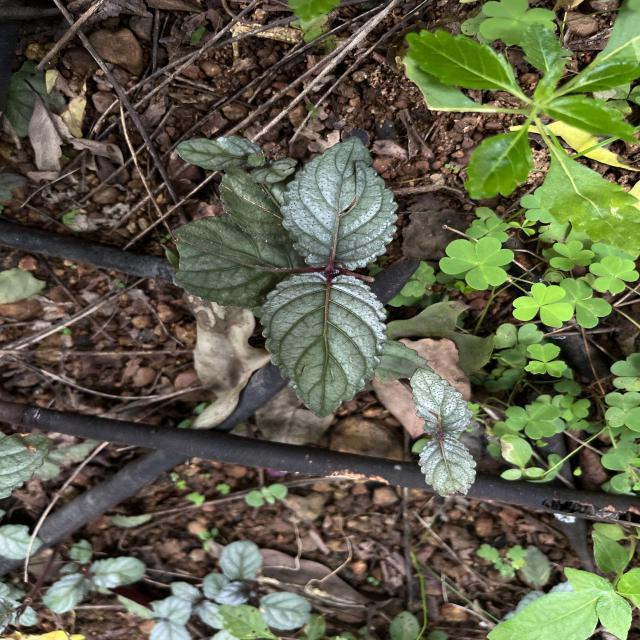Hemigraphis colorata: (256, 268, 391, 422), (278, 134, 402, 272), (169, 210, 311, 310), (408, 364, 482, 440), (416, 438, 480, 500)
